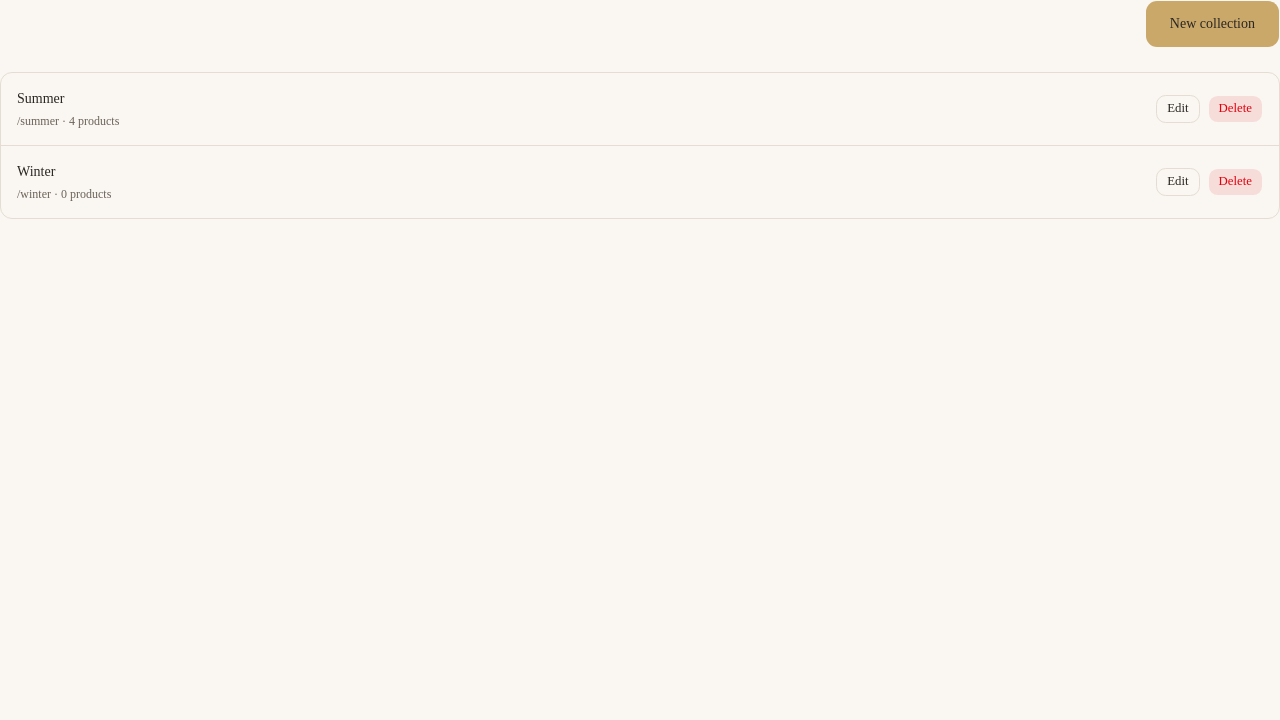
Test: CollectionManager › conflict-slug on create renders a slug field error and does not refresh
Click the button "New collection": {"x": 1212, "y": 24} [1145, 0, 1279, 48]
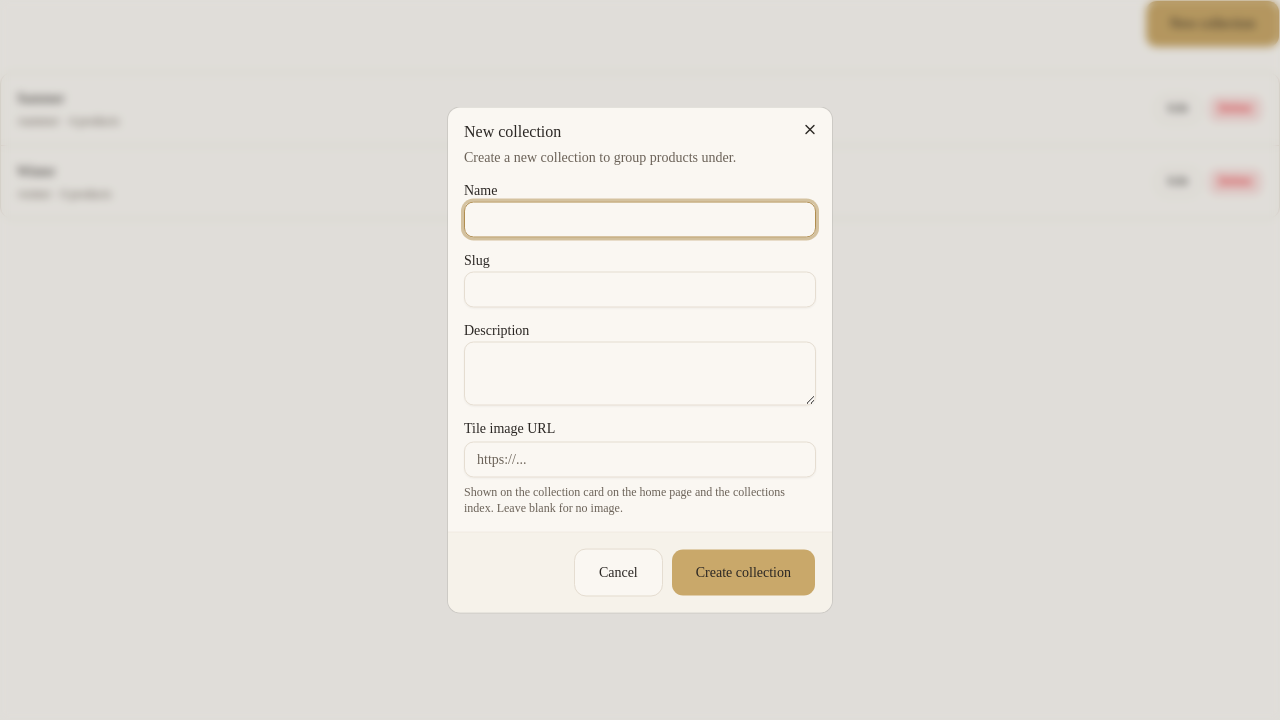
In the field labelled "Name": {"x": 640, "y": 220} [464, 202, 816, 238], type "Summer"
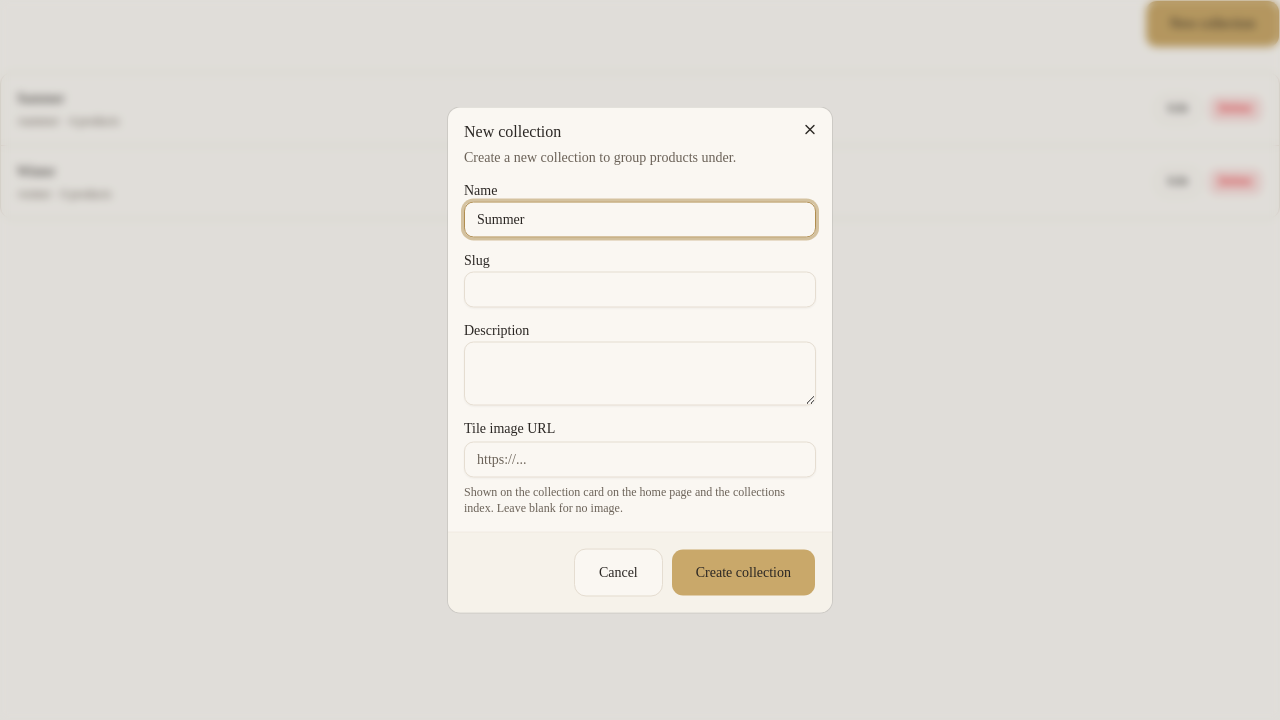
In the field labelled "Slug": {"x": 640, "y": 290} [464, 272, 816, 308], type "summer"
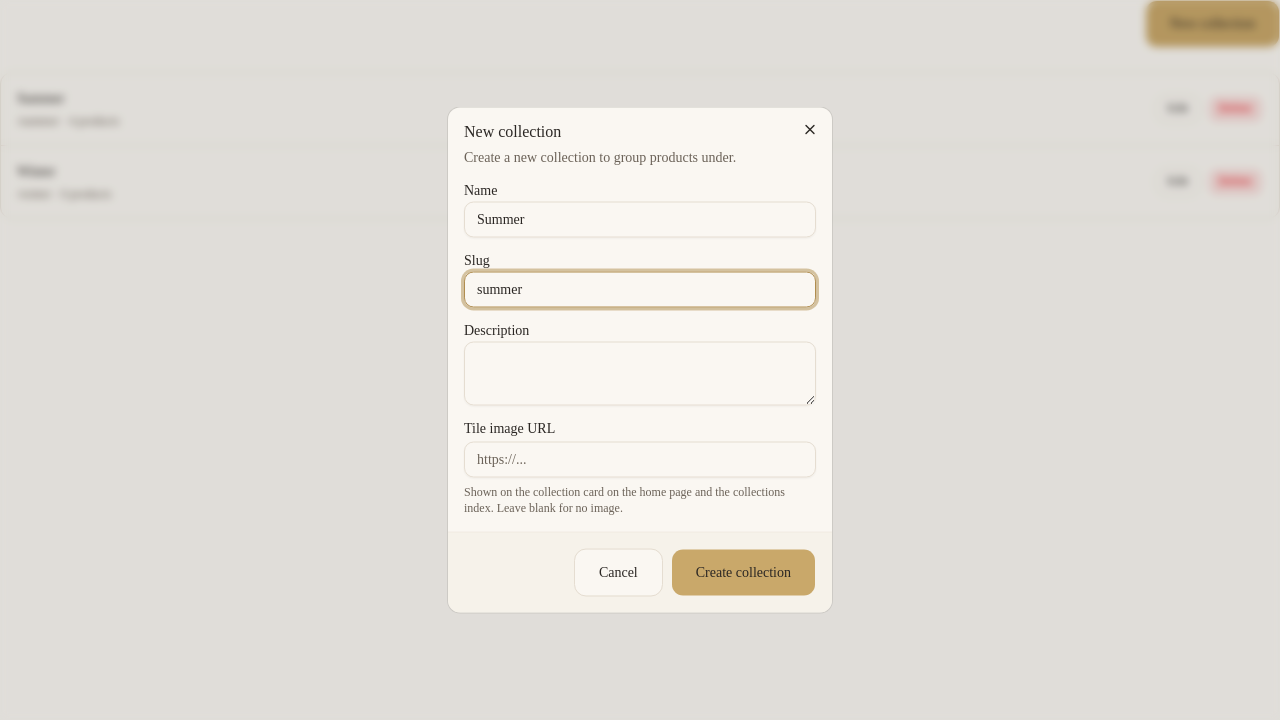
Click the button "Create collection": {"x": 743, "y": 572} [671, 548, 816, 596]
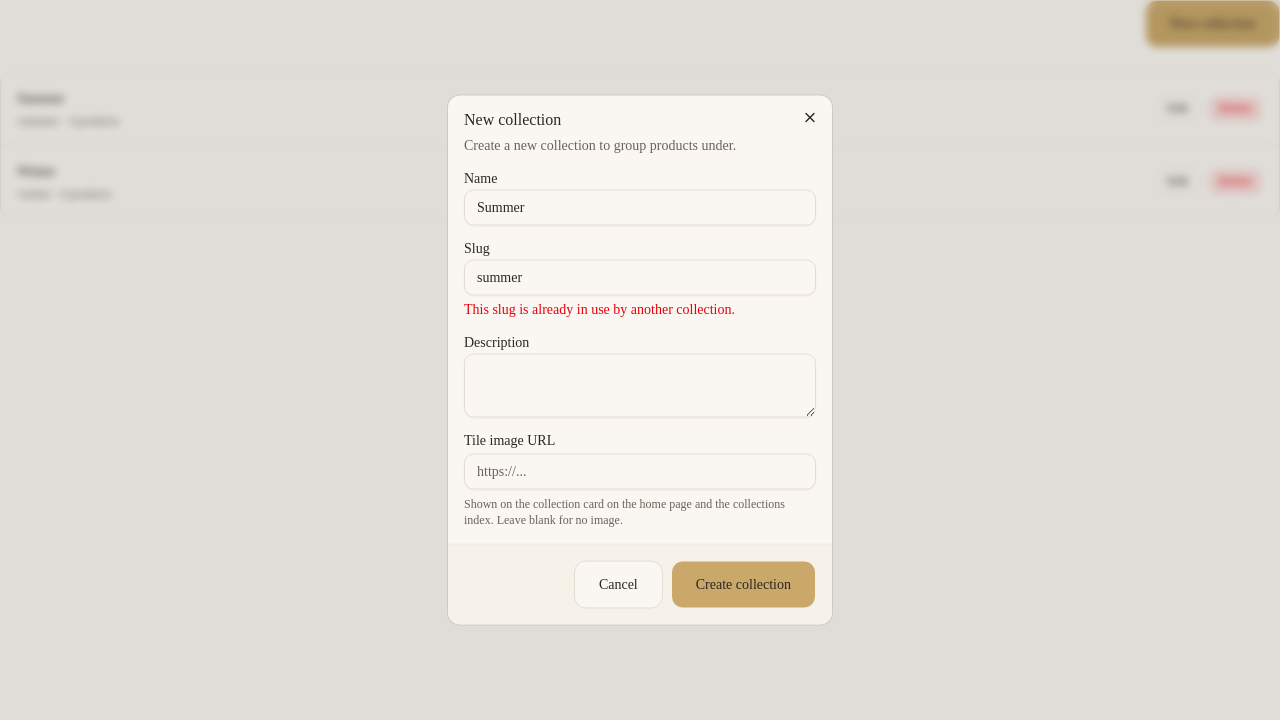
Expected: the dialog is shown, [448, 96, 832, 624]
Expected: the message shows "slug", [464, 302, 735, 316]
